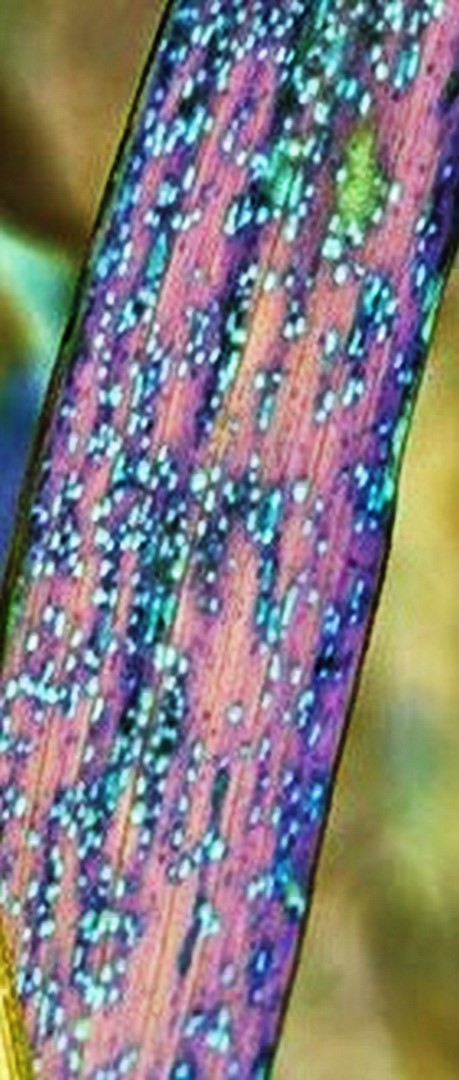Leaf Rust: (27, 225, 410, 858)
